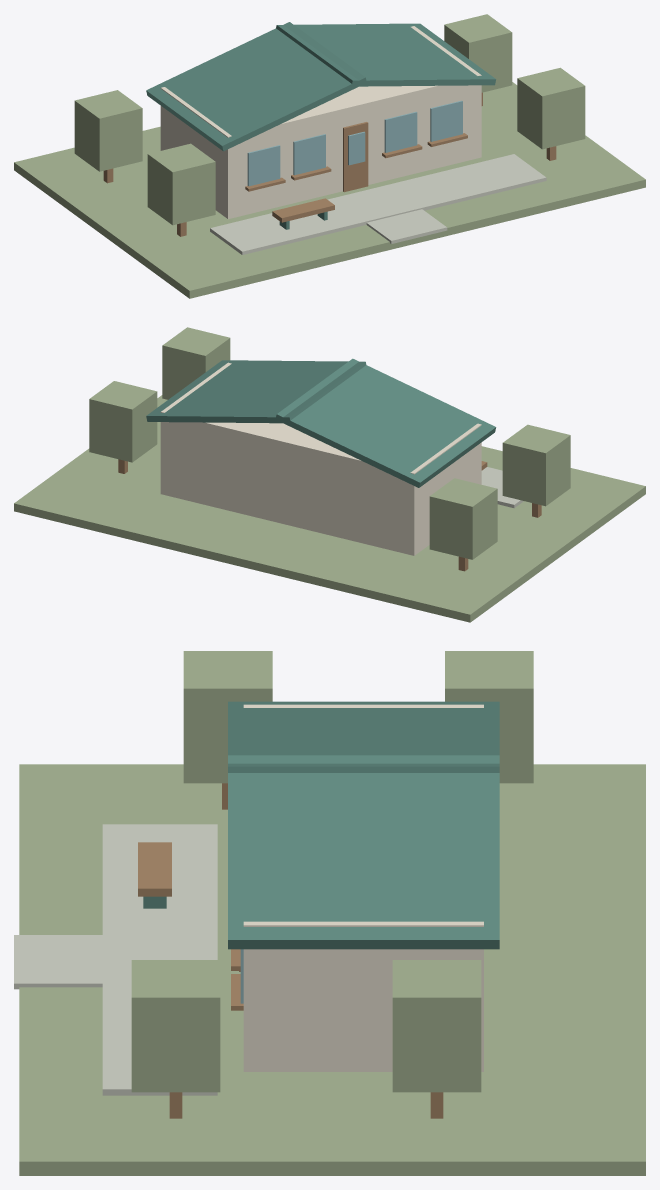
File: exterior.glb
3 views of the same model, one above another, from view 1: azimuth 30°, elevation 25°; view 2: azimuth 150°, elevation 25°; view 3: azimuth 270°, elevation 25° (orthographic). The views are drawn at different scales.
Visible parts, largest first — view 1: land, building, tree canopy (×4), roof left, terrace, roof right, window (×4), walk, entry, bench, entry glass; view 2: land, building, tree canopy (×4), roof left, roof right, terrace; view 3: land, roof right, tree canopy (×4), building, terrace, roof left, walk, bench.
Part boxes in pixels (x1,y1,x2,y2): land: (14,82,645,298); building: (160,26,481,219); tree canopy (×4): (74,14,585,225); roof left: (146,22,366,151); terrace: (210,154,546,254); roof right: (276,23,496,86); window (×4): (247,100,462,186); walk: (366,209,447,243); entry: (343,122,368,192); bench: (272,198,334,222); entry glass: (348,131,365,165); land: (14,395,645,622); building: (160,362,481,555); tree canopy (×4): (89,327,570,559); roof left: (275,358,496,487); roof right: (146,360,366,423); terrace: (481,467,523,508); land: (19,764,645,1175); roof right: (228,755,499,949); tree canopy (×4): (131,651,533,1092); building: (243,704,483,1071); terrace: (102,824,217,1095); roof left: (228,701,499,772); walk: (14,935,102,989); bench: (138,842,171,896).
Bounding box in the file's own units: 18 × 4.57 × 12.1.
